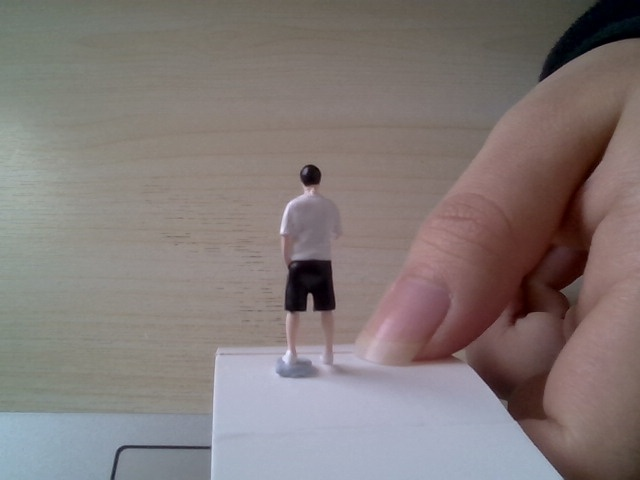walk: (266, 153, 347, 372)
